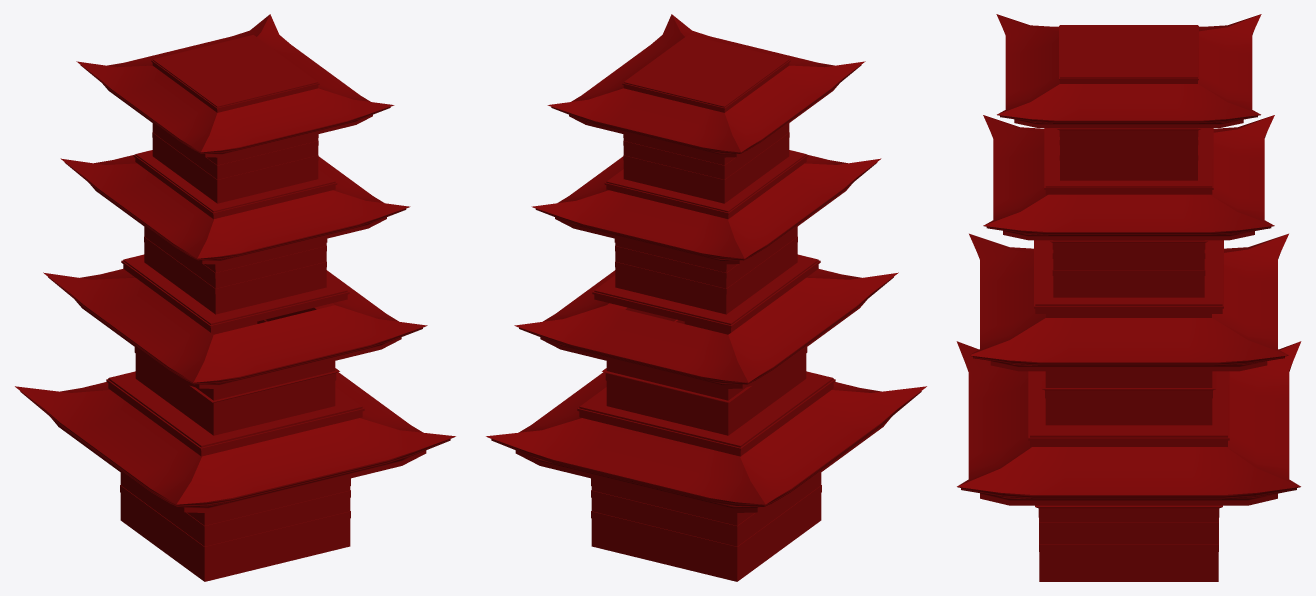
The model's file is Pagoda.obj.
The picture shows the model from 3 angles, left to right: view 1: azimuth 30°, elevation 25°; view 2: azimuth 150°, elevation 25°; view 3: azimuth 270°, elevation 25°; orthographic projection. The views are drawn at different scales.
Parts seen in each view (by area): view 1: pCube2, pCube5, pCube8, pCube11, pCube1, pCube4, pCube7, pCube12, pCube10, pCube3, pCube6, pCube9; view 2: pCube2, pCube5, pCube8, pCube11, pCube1, pCube4, pCube7, pCube12, pCube10, pCube3, pCube6, pCube9; view 3: pCube2, pCube5, pCube8, pCube11, pCube1, pCube4, pCube7, pCube12, pCube10, pCube3, pCube6, pCube9.
Boxes of the visible parts, x1,y1,x2,y2 form: pCube2: (15,372,455,512); pCube5: (43,268,427,388); pCube8: (60,154,410,264); pCube11: (76,14,394,157); pCube1: (120,473,350,581); pCube4: (134,312,339,435); pCube7: (144,227,327,314); pCube12: (151,35,319,112); pCube10: (152,123,318,203); pCube3: (106,371,364,456); pCube6: (121,254,349,332); pCube9: (133,150,337,219); pCube2: (486,372,926,512); pCube5: (514,268,898,388); pCube8: (531,154,881,264); pCube11: (547,14,865,157); pCube1: (591,473,821,581); pCube4: (602,312,807,435); pCube7: (614,226,797,314); pCube12: (622,35,790,112); pCube10: (623,123,789,203); pCube3: (577,371,835,456); pCube6: (592,254,820,332); pCube9: (604,150,808,219); pCube2: (956,341,1301,505); pCube5: (969,233,1288,371); pCube8: (983,115,1274,240); pCube11: (996,14,1261,127); pCube1: (1035,505,1222,581); pCube4: (1041,314,1216,425); pCube7: (1049,240,1208,297); pCube12: (1059,25,1198,83); pCube10: (1056,128,1201,180); pCube3: (1028,371,1229,446); pCube6: (1034,240,1223,313); pCube9: (1044,128,1213,194).
Bounding box in the file's own units: 18.4 × 29.01 × 18.4.
